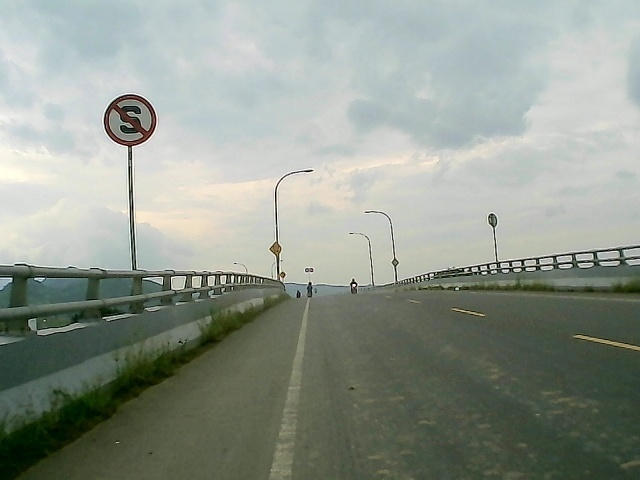Dilarang berhenti: (99, 91, 161, 151)
